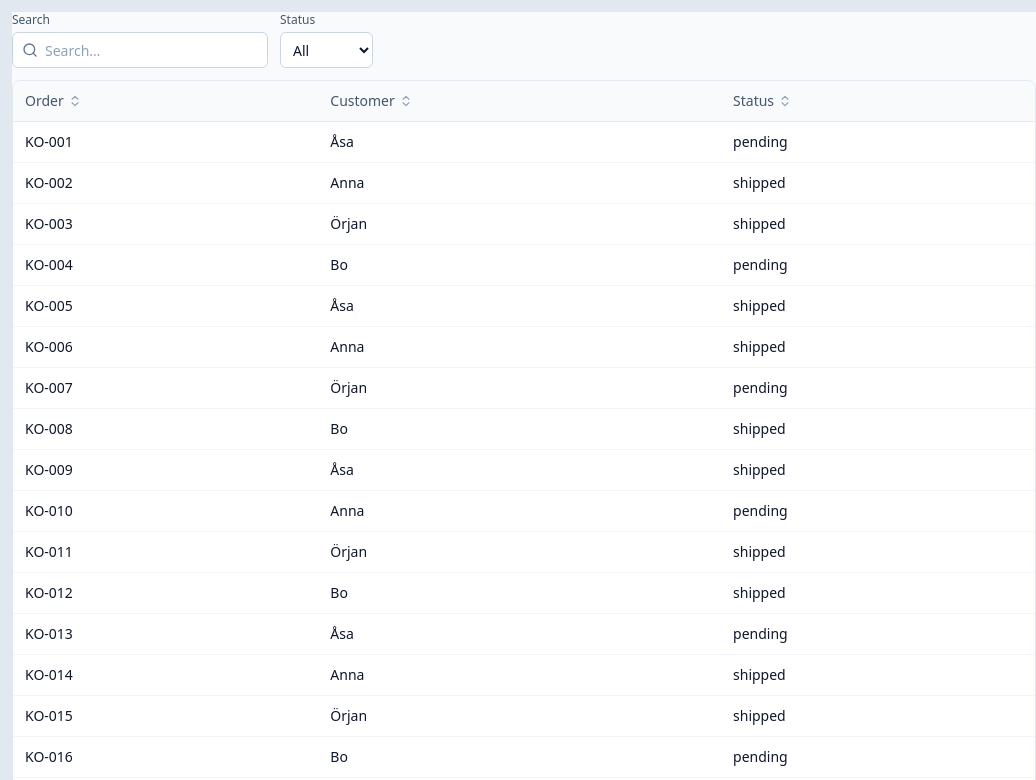
Test: DataTable › sorts by a column and says so with aria-sort
Click the button "Order": (53, 101) [25,91,82,111]
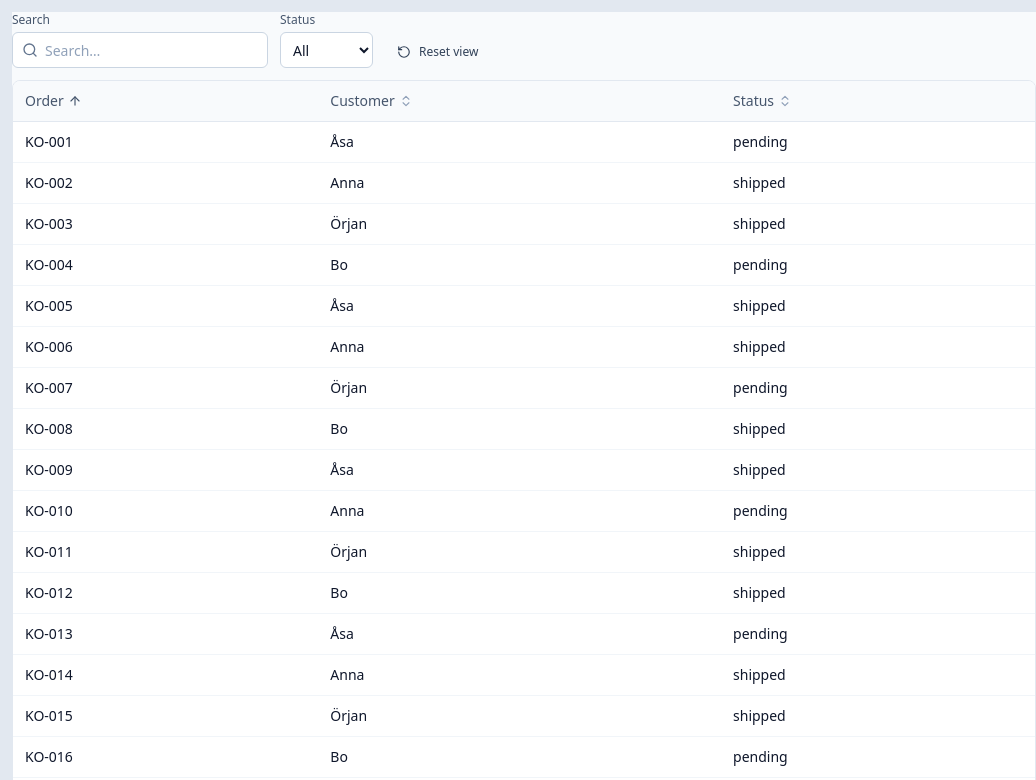
Check: the row "KO-001 Åsa pending" is shown, box [13,122,1035,162]
Check: the column heading "Order" has attribute aria-sort="ascending", box [13,81,318,121]
Click the button "Order": (53, 101) [25,91,82,111]
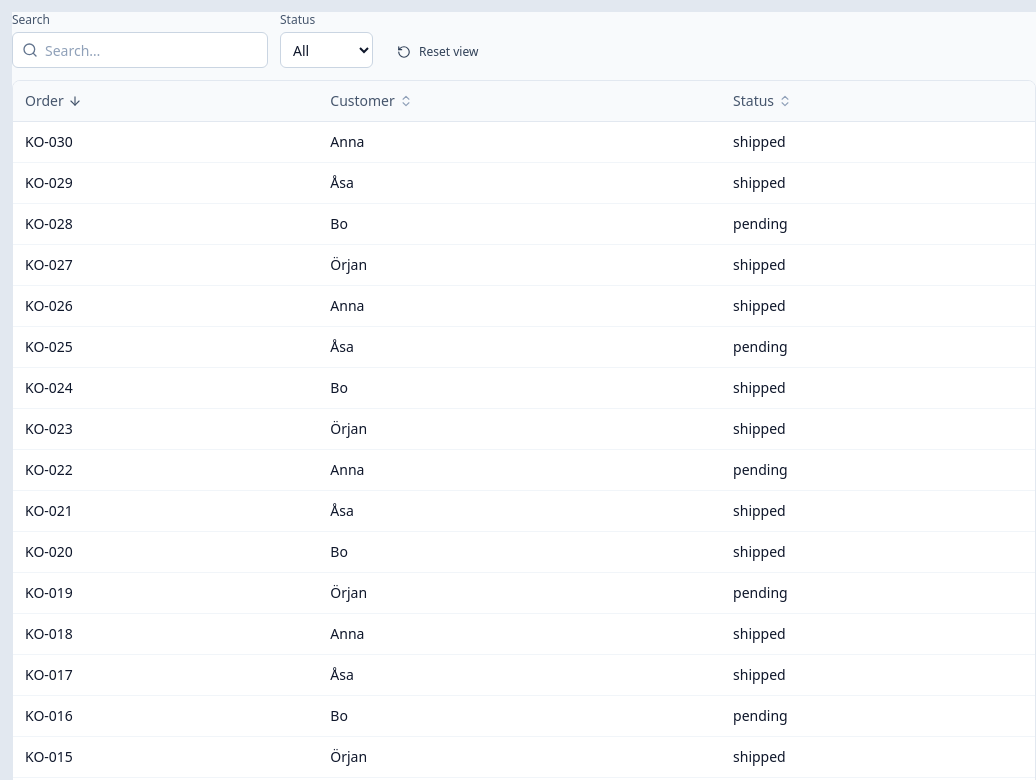
Check: the row "KO-030 Anna shipped" is shown, box [13,122,1035,162]
